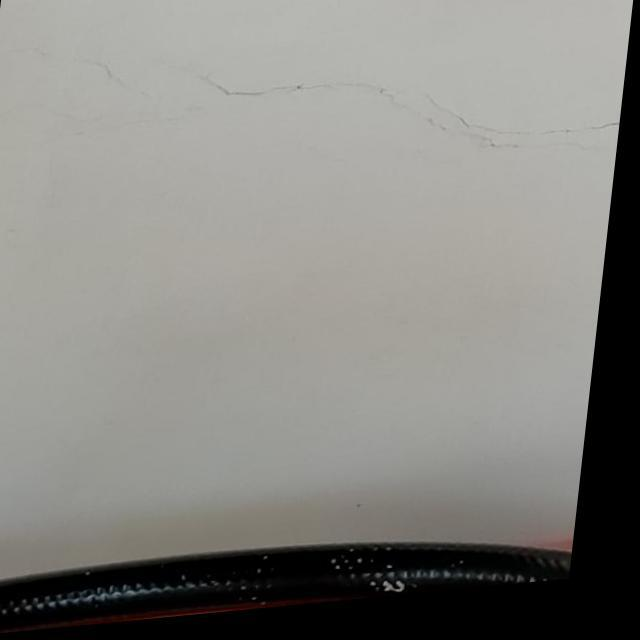Crack: (187, 67, 612, 151)
